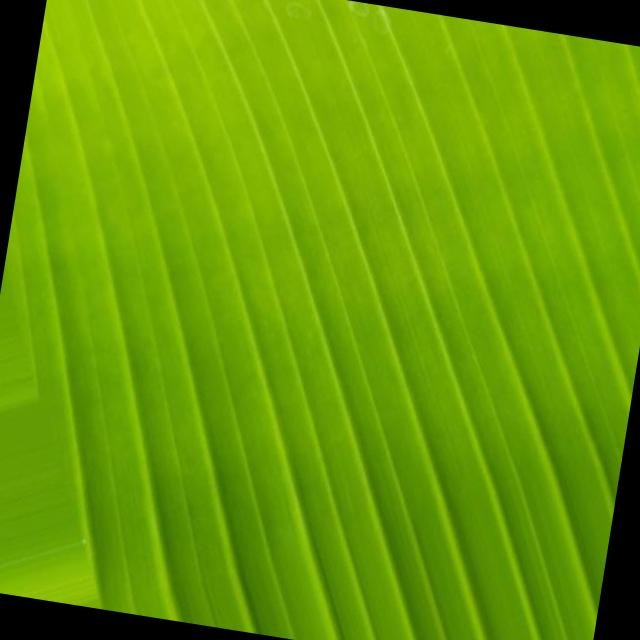Banana_Healthy: (103, 66, 572, 561)
